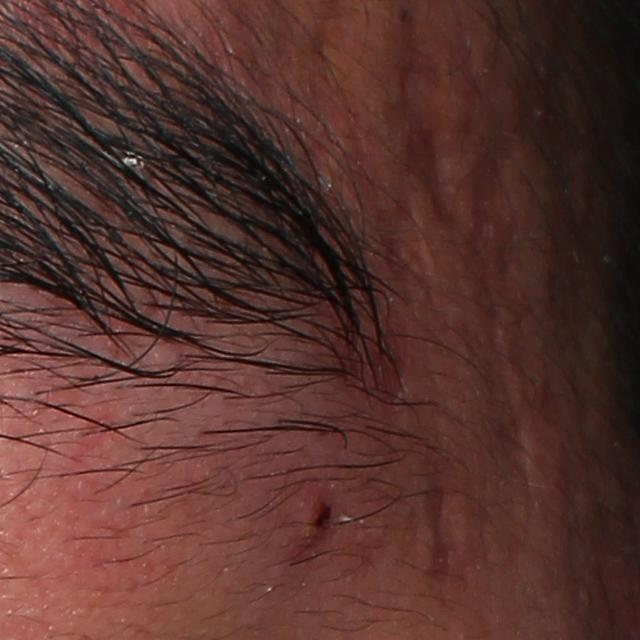atrophic_scar: (394, 27, 455, 226), (487, 321, 535, 503), (555, 48, 586, 294), (374, 194, 429, 309), (473, 143, 516, 284), (425, 475, 469, 577)
